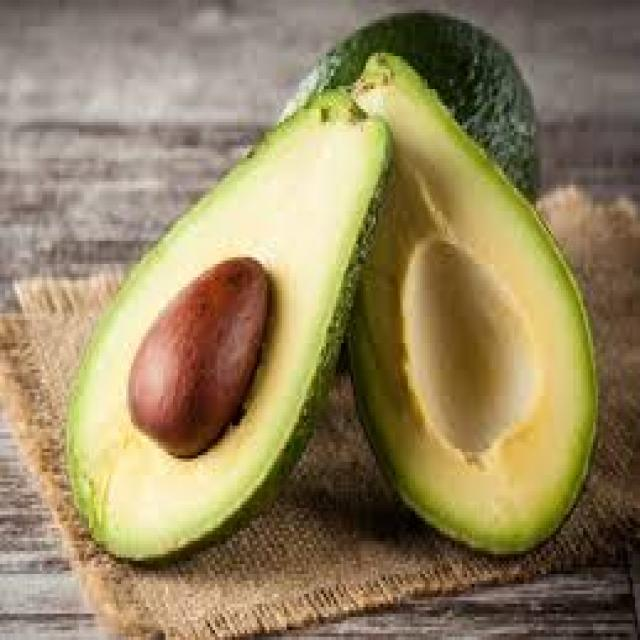organic waste: (62, 82, 390, 561), (339, 46, 598, 554), (274, 7, 539, 244), (126, 254, 267, 455)
